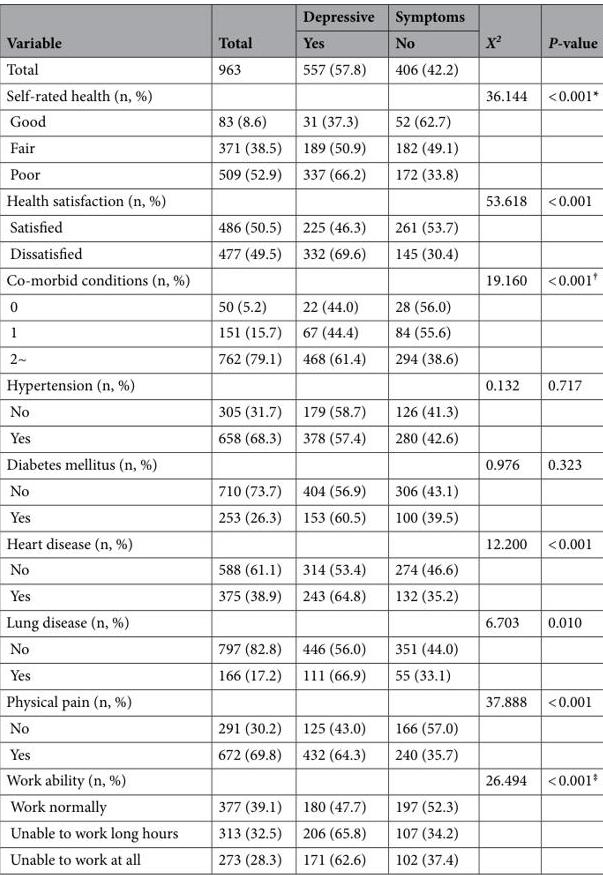table: (5, 4, 598, 869)
table column: (5, 4, 203, 869), (291, 4, 383, 869), (383, 4, 474, 869), (203, 4, 291, 869), (474, 4, 536, 869), (536, 4, 598, 869)
table column header: (5, 4, 598, 55)
table row: (5, 4, 598, 55), (5, 81, 598, 108), (5, 160, 598, 187), (5, 265, 598, 292), (5, 318, 598, 345), (5, 397, 598, 424), (5, 476, 598, 503), (5, 529, 598, 556), (5, 608, 598, 635), (5, 687, 598, 714), (5, 766, 598, 793), (5, 55, 598, 81), (5, 108, 598, 134), (5, 134, 598, 160), (5, 187, 598, 213), (5, 213, 598, 239), (5, 239, 598, 265), (5, 292, 598, 318), (5, 345, 598, 371), (5, 371, 598, 397), (5, 424, 598, 450), (5, 450, 598, 476), (5, 503, 598, 529), (5, 556, 598, 582), (5, 582, 598, 608), (5, 635, 598, 661), (5, 661, 598, 687), (5, 714, 598, 740), (5, 740, 598, 766), (5, 793, 598, 819), (5, 819, 598, 845), (5, 845, 598, 869)
